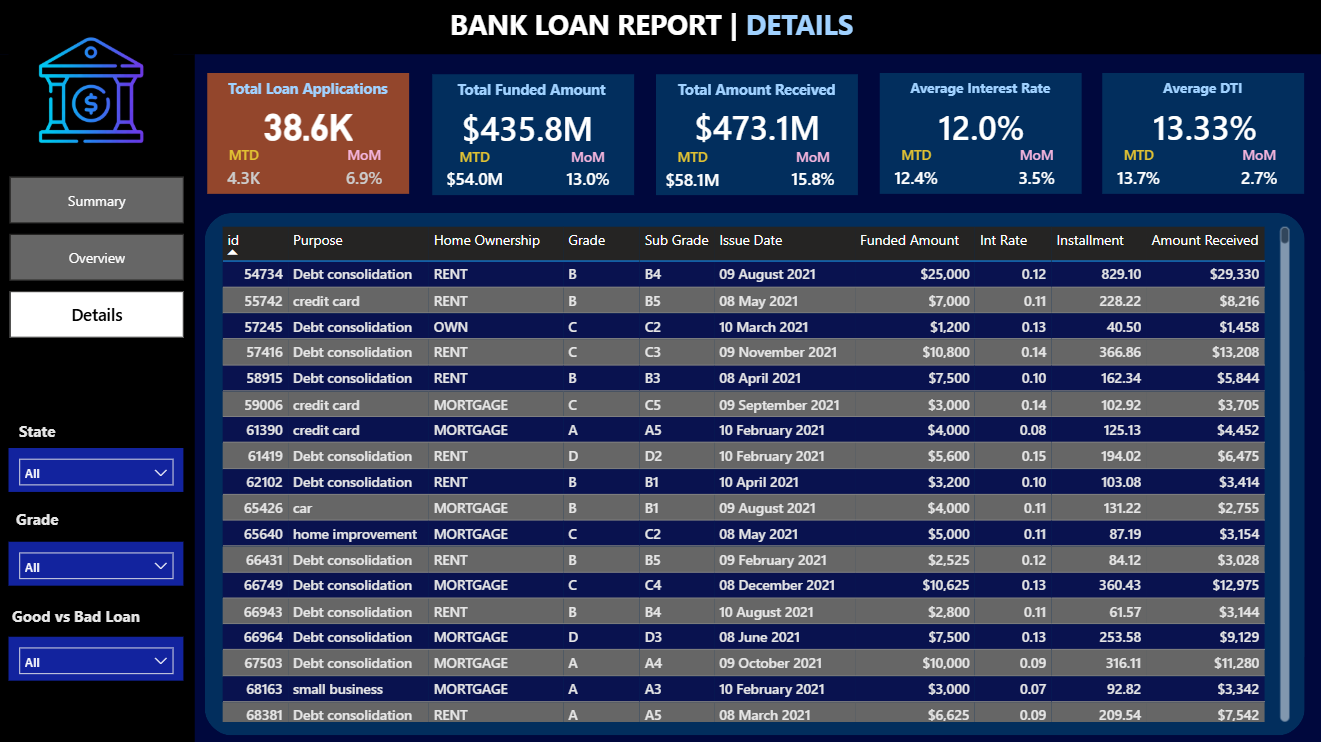

Layout of this report page (visuals, bound fields, positions):
{"tool":"powerbi","page":{"name":"Details","canvas":[1280,720],"ordinal":2},"visuals":[{"type":"shape","box":[0,0,1280,54.3],"z":0},{"type":"textbox","box":[861,72.4,177,31.6],"z":0,"group":"g5"},{"type":"textbox","box":[1076.2,72.4,177,31.6],"z":0,"group":"g6"},{"type":"textbox","box":[645.8,73.6,177,31.6],"z":0,"group":"g7"},{"type":"shape","box":[0,54.3,191.8,666],"z":1000},{"type":"cardVisual","fields":{"Data":["Financial_Loan.Total Amount Received"]},"box":[644.1,89.8,181.3,67.7],"z":1000,"group":"g7"},{"type":"textbox","box":[433.1,2.4,444,51.9],"z":2000},{"type":"cardVisual","fields":{"Data":["Financial_Loan.Average Interest Rate"]},"box":[877.4,88.9,146.8,68.6],"z":2000,"group":"g5"},{"type":"cardVisual","fields":{"Data":["Financial_Loan.Avg DTI"]},"box":[1085.1,88.9,165.6,67.7],"z":2000,"group":"g6"},{"type":"cardVisual","title":"MTD","fields":{"Data":["Financial_Loan.MTD Total Amount Received"]},"box":[625.2,143.6,94.7,74.1],"z":2000,"group":"g7"},{"type":"shape","box":[852.7,72.4,194.9,116.6],"z":3000,"group":"g4"},{"type":"shape","box":[1067.9,72.4,194.9,116.6],"z":3000,"group":"g8"},{"type":"shape","box":[204.4,72.7,194.9,116.6],"z":3000,"group":"g3"},{"type":"shape","box":[420,73.6,194.9,116.6],"z":3000,"group":"g9"},{"type":"shape","box":[637.5,73.6,194.9,116.6],"z":3000,"group":"g2"},{"type":"cardVisual","title":"MoM","fields":{"Data":["Financial_Loan.MoM Total Amount Received"]},"box":[744.4,143.2,88.1,73.6],"z":3000,"group":"g7"},{"type":"shape","box":[201.5,207.5,1061.7,504.3],"z":3000},{"type":"textbox","box":[212.7,72.7,177,31.6],"z":4000,"group":"g3"},{"type":"textbox","box":[428.2,73.6,177,31.6],"z":4000,"group":"g9"},{"type":"cardVisual","title":"MTD","fields":{"Data":["Financial_Loan.MTD Average Interest Rate"]},"box":[840.4,142.4,94.7,74.1],"z":4000,"group":"g5"},{"type":"cardVisual","title":"MTD","fields":{"Data":["Financial_Loan.MTD Average DTI"]},"box":[1055.6,142.4,94.7,74.1],"z":4000,"group":"g6"},{"type":"textbox","box":[12.1,402.7,55.5,31.4],"z":4000},{"type":"group","id":"g1","title":"Group 1","box":[192.1,72.7,207.2,144.1],"z":5000},{"type":"cardVisual","fields":{"Data":["Financial_Loan.Total Loan Applications"]},"box":[229.1,89.2,146.8,68.6],"z":5000,"group":"g3"},{"type":"cardVisual","fields":{"Data":["Financial_Loan.Total Funded Amount"]},"box":[408.5,89.8,208.7,70],"z":5000,"group":"g9"},{"type":"group","id":"g2","title":"Group 1","box":[625.2,73.6,207.2,144.1],"z":6000},{"type":"cardVisual","title":"MoM","fields":{"Data":["Financial_Loan.MoM Average Interest Rate"]},"box":[959.6,142,88.1,73.6],"z":6000,"group":"g5"},{"type":"cardVisual","title":"MoM","fields":{"Data":["Financial_Loan.MoM Average DTI"]},"box":[1174.8,142,88.1,73.6],"z":6000,"group":"g6"},{"type":"cardVisual","title":"MTD","fields":{"Data":["Financial_Loan.MTD Loan Applications"]},"box":[192.1,142.7,94.7,74.1],"z":6000,"group":"g3"},{"type":"cardVisual","title":"MTD","fields":{"Data":["Financial_Loan.MTD Funded Amount"]},"box":[407.3,144.1,108.6,73.6],"z":6000,"group":"g9"},{"type":"group","id":"g3","title":"Group 4","box":[192.1,72.7,207.2,144.1],"z":6001,"group":"g1"},{"type":"group","id":"g4","title":"Group 1","box":[840.4,72.4,207.2,144.1],"z":7000},{"type":"cardVisual","title":"MoM","fields":{"Data":["Financial_Loan.MoM Loan Applications"]},"box":[311.3,142.3,88.1,73.6],"z":7000,"group":"g3"},{"type":"cardVisual","title":"MoM","fields":{"Data":["Financial_Loan.MoM Total Funded Amount"]},"box":[526.8,143.2,88.1,73.6],"z":7000,"group":"g9"},{"type":"group","id":"g5","title":"Group 2","box":[840.4,72.4,207.2,144.1],"z":7003,"group":"g4"},{"type":"group","id":"g6","title":"Group 2","box":[1055.6,72.4,207.2,144.1],"z":7003,"group":"g8"},{"type":"group","id":"g7","title":"Group 2","box":[625.2,73.6,207.2,144.1],"z":7003,"group":"g2"},{"type":"group","id":"g8","title":"Group 1","box":[1055.6,72.4,207.2,144.1],"z":8000},{"type":"group","id":"g9","title":"Group 4","box":[407.3,73.6,209.9,144.1],"z":9000},{"type":"slicer","fields":{"Values":["Financial_Loan.address_state"]},"box":[12.1,434.1,168.9,42.2],"z":10000},{"type":"slicer","fields":{"Values":["Financial_Loan.Good v Bad Loan"]},"box":[12.1,616.3,168.9,42.2],"z":11000},{"type":"textbox","box":[12.1,487.2,55.5,31.4],"z":12000},{"type":"slicer","fields":{"Values":["Financial_Loan.grade"]},"box":[12.1,524.6,168.9,42.2],"z":13000},{"type":"textbox","box":[12.1,581.3,135.1,31.4],"z":14000},{"type":"tableEx","fields":{"Values":["Financial_Loan.id","Financial_Loan.purpose","Financial_Loan.home_ownership","Financial_Loan.grade","Financial_Loan.sub_grade","Financial_Loan.issue_date","Financial_Loan.Total Funded Amount","Sum(Financial_Loan.int_rate)","Sum(Financial_Loan.installment)","Financial_Loan.Total Amount Received"]},"box":[212.3,216,1041.2,487.4],"z":17000},{"type":"image","box":[12.1,6,159.3,167.7],"z":17001},{"type":"pageNavigator","box":[13.3,172.5,168.9,155.6],"z":17002}]}

Visuals, with their boxes in screenshot pixels (x1, y1, x2, y2), scaled from the page's 1280x720 canvas onto the 1321x742 screenshot:
shape: (x1=0, y1=0, x2=1320, y2=56)
textbox: (x1=889, y1=75, x2=1071, y2=107)
textbox: (x1=1111, y1=75, x2=1293, y2=107)
textbox: (x1=666, y1=76, x2=849, y2=108)
shape: (x1=0, y1=56, x2=198, y2=741)
cardVisual - Financial_Loan.Total Amount Received: (x1=665, y1=93, x2=852, y2=162)
textbox: (x1=447, y1=2, x2=905, y2=56)
cardVisual - Financial_Loan.Average Interest Rate: (x1=906, y1=92, x2=1057, y2=162)
cardVisual - Financial_Loan.Avg DTI: (x1=1120, y1=92, x2=1291, y2=161)
"MTD" cardVisual: (x1=645, y1=148, x2=743, y2=224)
shape: (x1=880, y1=75, x2=1081, y2=195)
shape: (x1=1102, y1=75, x2=1303, y2=195)
shape: (x1=211, y1=75, x2=412, y2=195)
shape: (x1=433, y1=76, x2=635, y2=196)
shape: (x1=658, y1=76, x2=859, y2=196)
"MoM" cardVisual: (x1=768, y1=148, x2=859, y2=223)
shape: (x1=208, y1=214, x2=1304, y2=734)
textbox: (x1=220, y1=75, x2=402, y2=107)
textbox: (x1=442, y1=76, x2=625, y2=108)
"MTD" cardVisual: (x1=867, y1=147, x2=965, y2=223)
"MTD" cardVisual: (x1=1089, y1=147, x2=1187, y2=223)
textbox: (x1=12, y1=415, x2=70, y2=447)
"Group 1" group: (x1=198, y1=75, x2=412, y2=223)
cardVisual - Financial_Loan.Total Loan Applications: (x1=236, y1=92, x2=388, y2=163)
cardVisual - Financial_Loan.Total Funded Amount: (x1=422, y1=93, x2=637, y2=165)
"Group 1" group: (x1=645, y1=76, x2=859, y2=224)
"MoM" cardVisual: (x1=990, y1=146, x2=1081, y2=222)
"MoM" cardVisual: (x1=1212, y1=146, x2=1303, y2=222)
"MTD" cardVisual: (x1=198, y1=147, x2=296, y2=223)
"MTD" cardVisual: (x1=420, y1=149, x2=532, y2=224)
"Group 4" group: (x1=198, y1=75, x2=412, y2=223)
"Group 1" group: (x1=867, y1=75, x2=1081, y2=223)
"MoM" cardVisual: (x1=321, y1=147, x2=412, y2=222)
"MoM" cardVisual: (x1=544, y1=148, x2=635, y2=223)
"Group 2" group: (x1=867, y1=75, x2=1081, y2=223)
"Group 2" group: (x1=1089, y1=75, x2=1303, y2=223)
"Group 2" group: (x1=645, y1=76, x2=859, y2=224)
"Group 1" group: (x1=1089, y1=75, x2=1303, y2=223)
"Group 4" group: (x1=420, y1=76, x2=637, y2=224)
slicer - Financial_Loan.address_state: (x1=12, y1=447, x2=187, y2=491)
slicer - Financial_Loan.Good v Bad Loan: (x1=12, y1=635, x2=187, y2=679)
textbox: (x1=12, y1=502, x2=70, y2=534)
slicer - Financial_Loan.grade: (x1=12, y1=541, x2=187, y2=584)
textbox: (x1=12, y1=599, x2=152, y2=631)
tableEx - Financial_Loan.id x Financial_Loan.purpose: (x1=219, y1=223, x2=1294, y2=725)
image: (x1=12, y1=6, x2=177, y2=179)
pageNavigator: (x1=14, y1=178, x2=188, y2=338)
